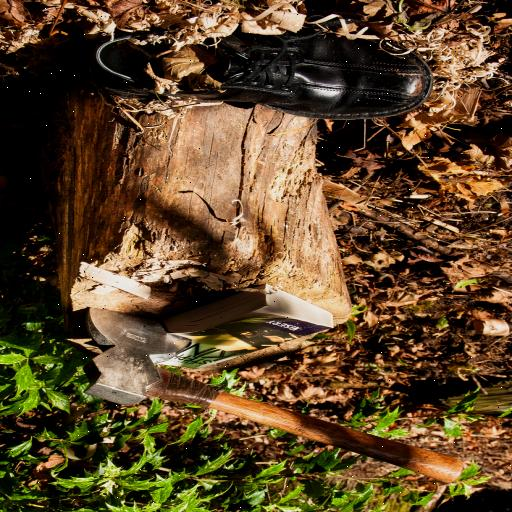Axe: (82, 307, 470, 483)
